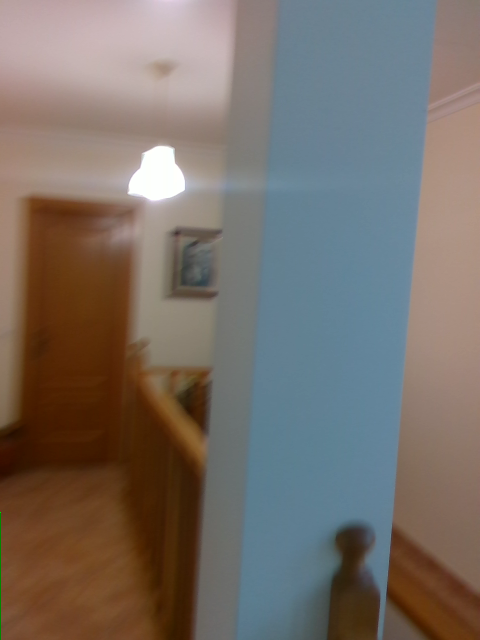closed: (15, 198, 146, 468)
